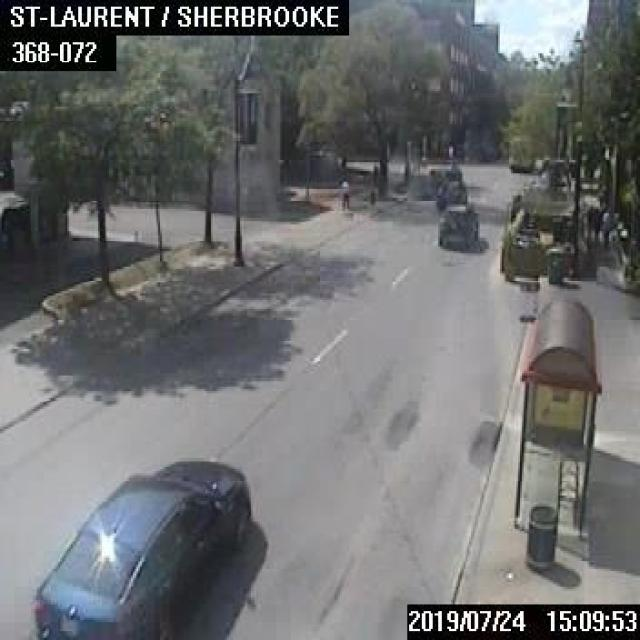pedestrian: (588, 205, 600, 242), (338, 176, 349, 211)
vehicle: (31, 456, 251, 638), (436, 204, 478, 244), (435, 176, 466, 207), (507, 134, 533, 170), (429, 157, 460, 183)
